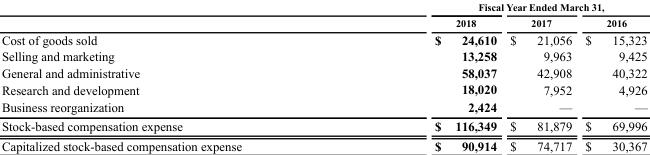table: (0, 0, 646, 152)
table column: (0, 0, 337, 152), (337, 0, 502, 152), (502, 0, 577, 152), (577, 0, 646, 152)
table column header: (0, 0, 646, 30)
table row: (0, 116, 646, 135), (0, 80, 646, 98), (0, 98, 646, 116), (0, 30, 646, 47), (0, 47, 646, 64), (0, 135, 646, 152), (0, 14, 646, 30), (0, 64, 646, 80), (0, 0, 646, 14)
table spanning cell: (337, 0, 646, 14)
